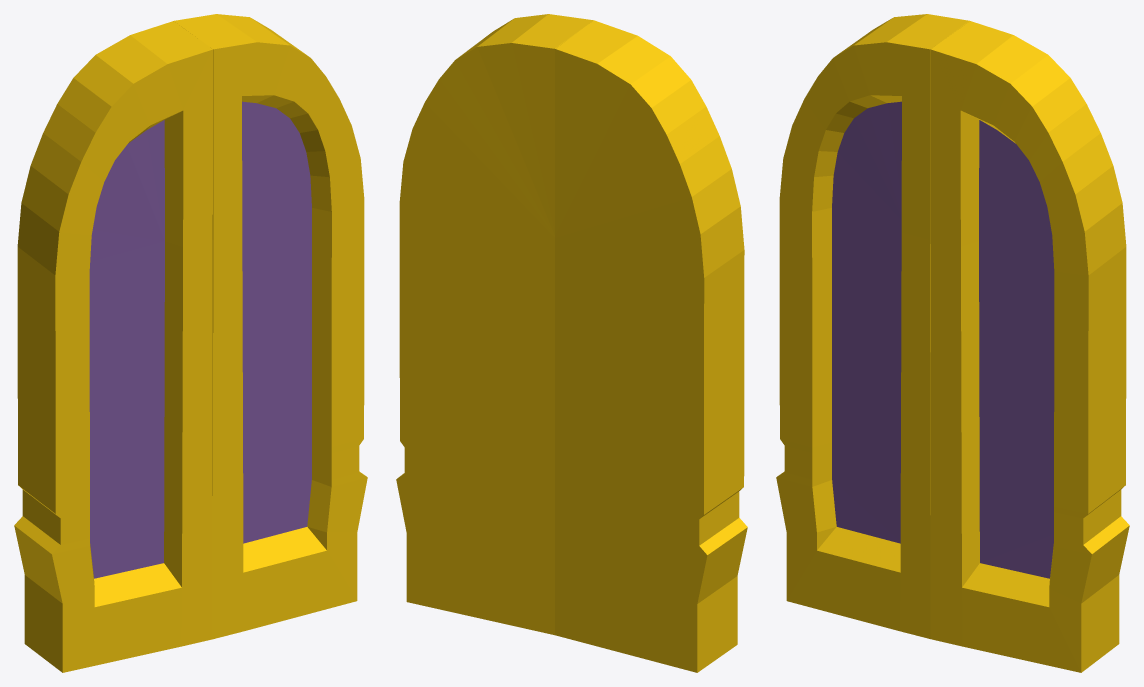
The model's file is Door.fbx.
3 views of the same model, side by side, from view 1: azimuth 30°, elevation 25°; view 2: azimuth 150°, elevation 25°; view 3: azimuth 330°, elevation 25° (orthographic).
Visible parts, largest first — view 1: Doors; view 2: Doors; view 3: Doors.
Part boxes in pixels (bbox=[...]): Doors: bbox=[14, 14, 367, 672]; Doors: bbox=[396, 14, 747, 672]; Doors: bbox=[776, 14, 1129, 672].
Size of the model in its own units: 5.02 by 8.95 by 1.17.
